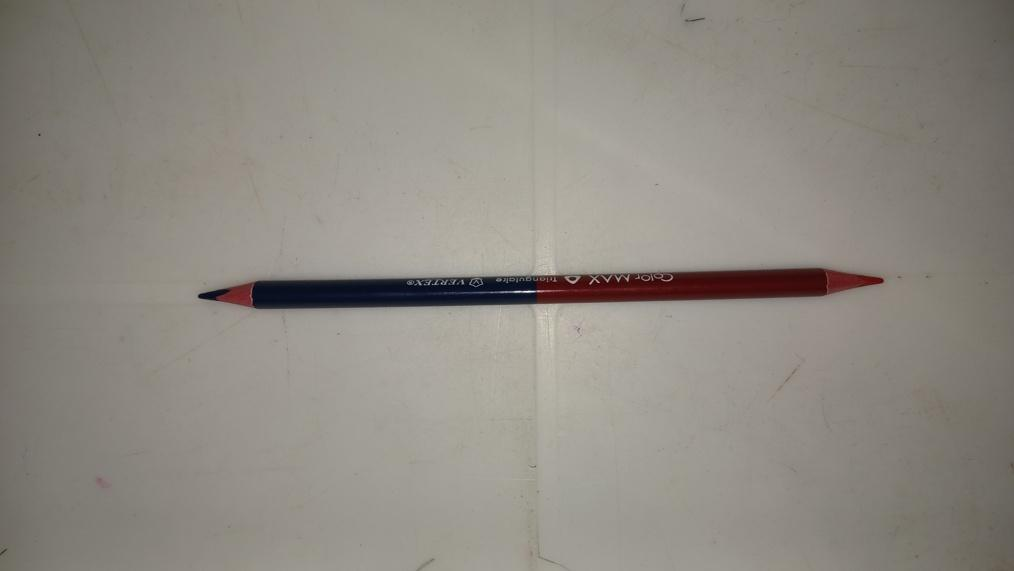Pencil: (194, 266, 887, 317)
